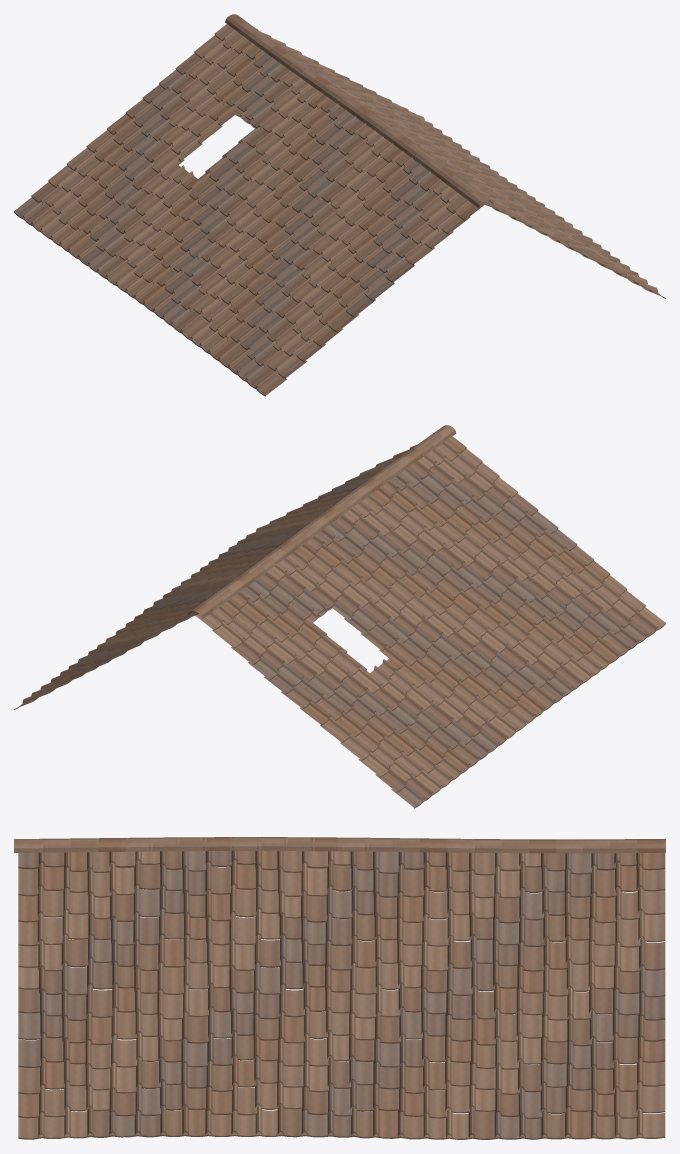
The model's file is BW_Bakery02_ClayRoof.fbx.
The picture shows the model from 3 angles, top to bottom: view 1: azimuth 30°, elevation 25°; view 2: azimuth 150°, elevation 25°; view 3: azimuth 270°, elevation 25°; orthographic projection. The views are drawn at different scales.
Visible parts, largest first — view 1: BW_Bakery02_ClayRoof; view 2: BW_Bakery02_ClayRoof; view 3: BW_Bakery02_ClayRoof.
Part boxes in pixels (<box>): BW_Bakery02_ClayRoof: <box>14,14,665,396</box>; BW_Bakery02_ClayRoof: <box>14,425,665,808</box>; BW_Bakery02_ClayRoof: <box>14,837,665,1139</box>.
Size of the model in its own units: 7.44 by 2.61 by 8.19.
